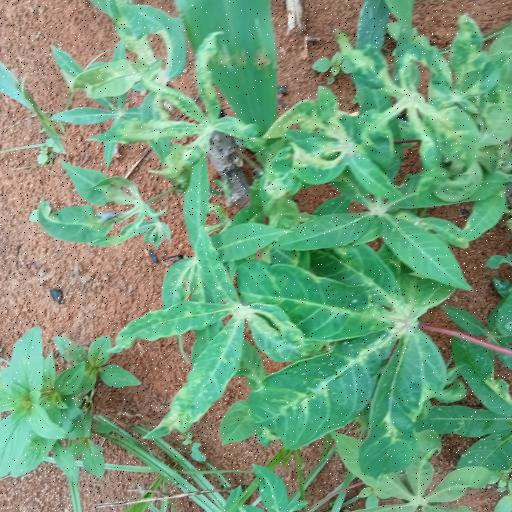Cassava_Mosaic: (245, 234, 452, 436), (127, 225, 281, 429), (379, 31, 512, 180), (131, 38, 270, 176), (271, 97, 424, 191)
